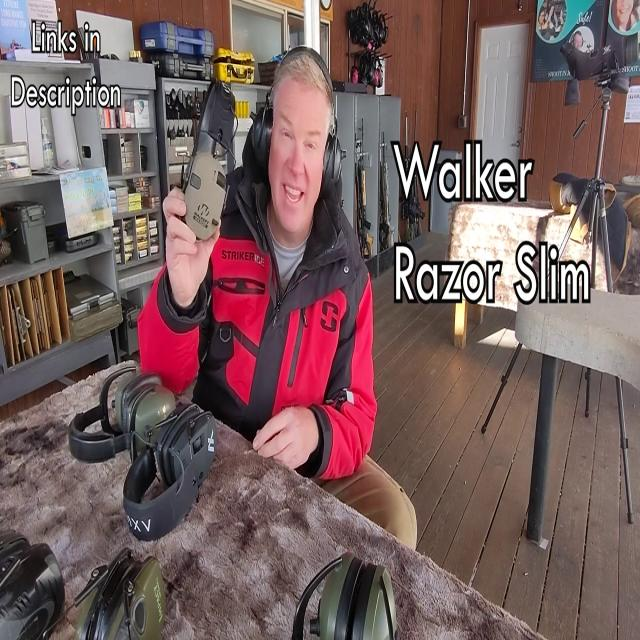earmuff: (180, 145, 230, 247), (247, 94, 275, 170), (321, 132, 348, 199)
